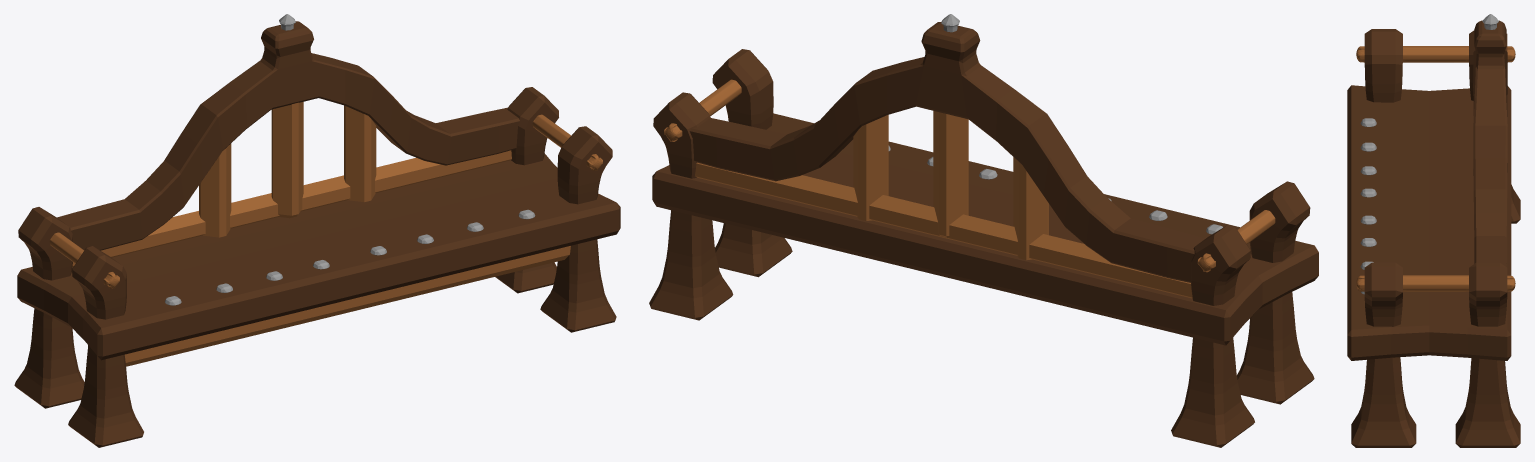
The model's file is Bench.fbx.
3 renders of one model, left to right at view 1: azimuth 30°, elevation 25°; view 2: azimuth 150°, elevation 25°; view 3: azimuth 270°, elevation 25°, orthographic. The views are drawn at different scales.
Visible parts, largest first — view 1: SittingPlank, ArmRestPillar, BackRest, SupportPlanks, BackRestPanks, ArmRestNail, BenchDetails; view 2: SittingPlank, ArmRestPillar, BackRest, SupportPlanks, BackRestPanks, ArmRestNail; view 3: SittingPlank, ArmRestPillar, BackRest, ArmRestNail, BenchDetails, BackRestUpperDetail.
Part boxes in pixels (bbox=[...]): SittingPlank: bbox=[17, 153, 620, 360]; ArmRestPillar: bbox=[14, 87, 616, 447]; BackRest: bbox=[57, 21, 519, 250]; SupportPlanks: bbox=[72, 150, 570, 366]; BackRestPanks: bbox=[199, 102, 376, 237]; ArmRestNail: bbox=[49, 114, 602, 288]; BenchDetails: bbox=[165, 209, 535, 305]; SittingPlank: bbox=[652, 113, 1318, 345]; ArmRestPillar: bbox=[649, 49, 1314, 447]; BackRest: bbox=[689, 21, 1205, 282]; SupportPlanks: bbox=[695, 162, 1192, 298]; BackRestPanks: bbox=[853, 111, 1048, 260]; ArmRestNail: bbox=[664, 79, 1275, 272]; SittingPlank: bbox=[1347, 85, 1511, 360]; ArmRestPillar: bbox=[1351, 29, 1520, 447]; BackRest: bbox=[1473, 20, 1507, 266]; ArmRestNail: bbox=[1356, 46, 1515, 291]; BenchDetails: bbox=[1360, 118, 1376, 294]; BackRestUpperDetail: bbox=[1482, 14, 1498, 29].
Size of the model in its own units: 2.65 by 1.54 by 0.7753.
